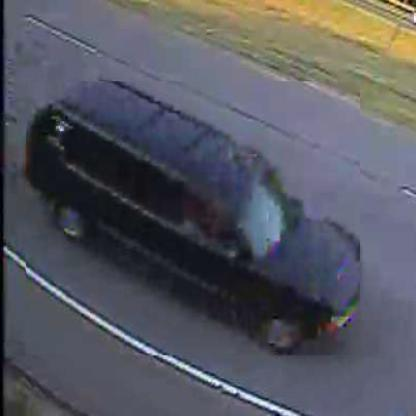car: (27, 82, 362, 358)
